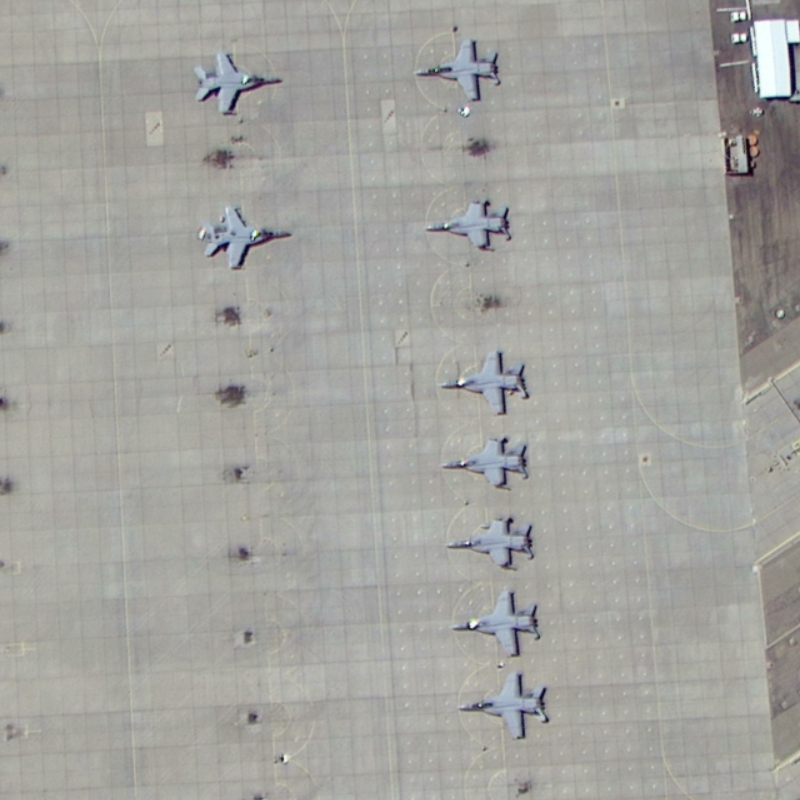A16: (447, 580, 545, 662), (452, 666, 554, 744), (197, 200, 294, 277), (433, 343, 531, 419), (187, 47, 290, 119), (410, 33, 509, 107), (433, 431, 539, 495), (438, 511, 538, 577), (420, 196, 518, 255)
